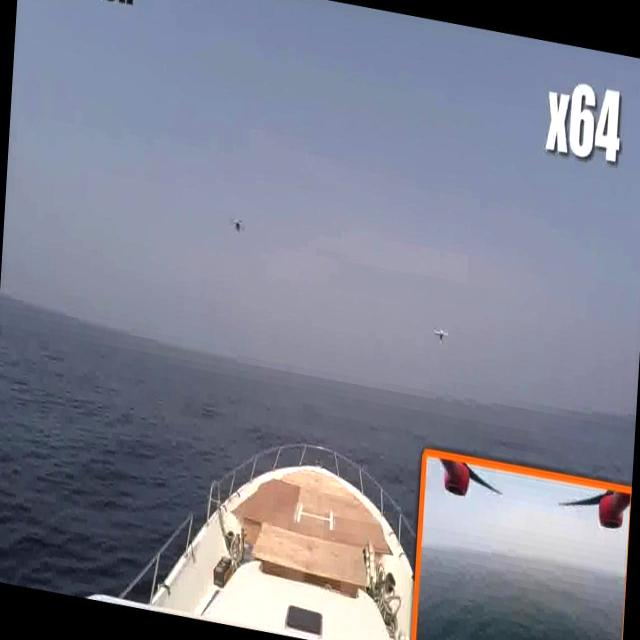drone: (225, 211, 250, 242), (431, 318, 454, 345)
